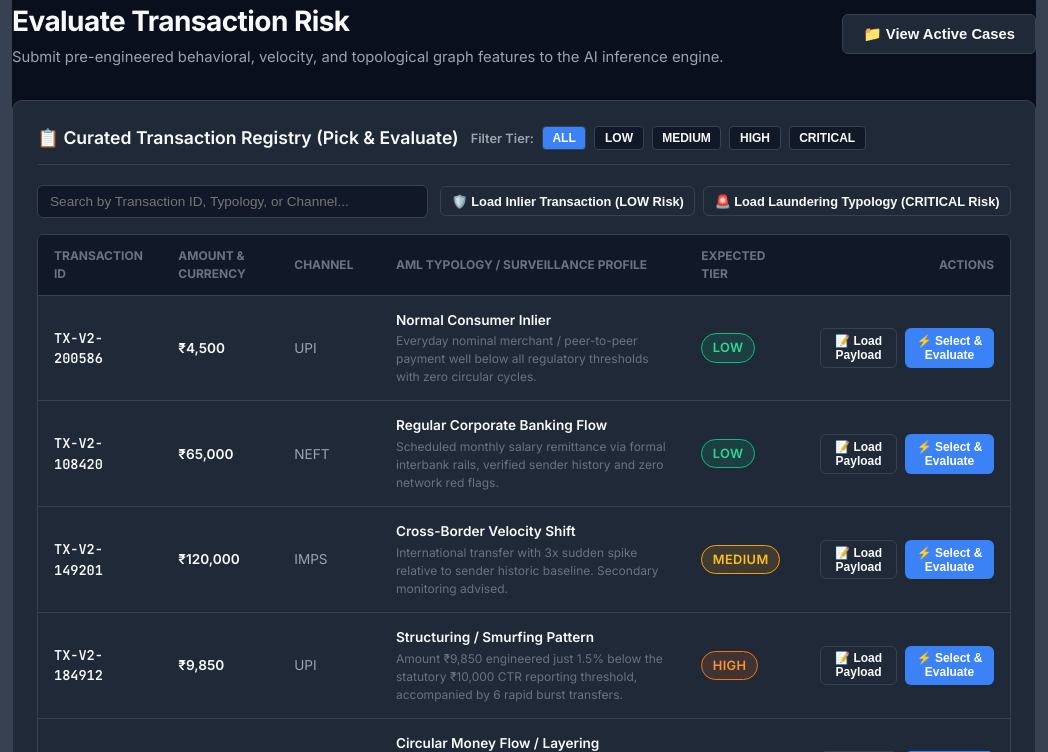
Test: AnalyzeTransaction Page Component › handles 504 Gateway Timeout gracefully
Click the button "🛡️ Load Inlier Transaction (LOW Risk)" at (568, 201), box [440,186,695,216]
(page scrolled)
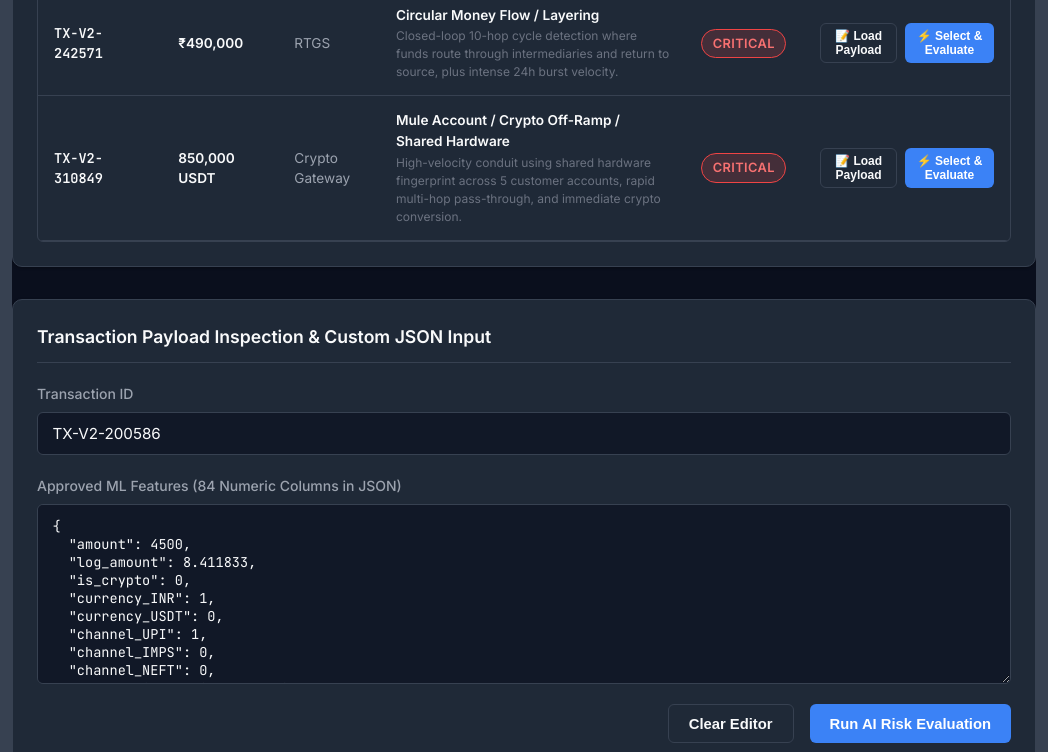
Click the button "Run AI Risk Evaluation" at (910, 724), box [810,704,1011,743]
(page scrolled)
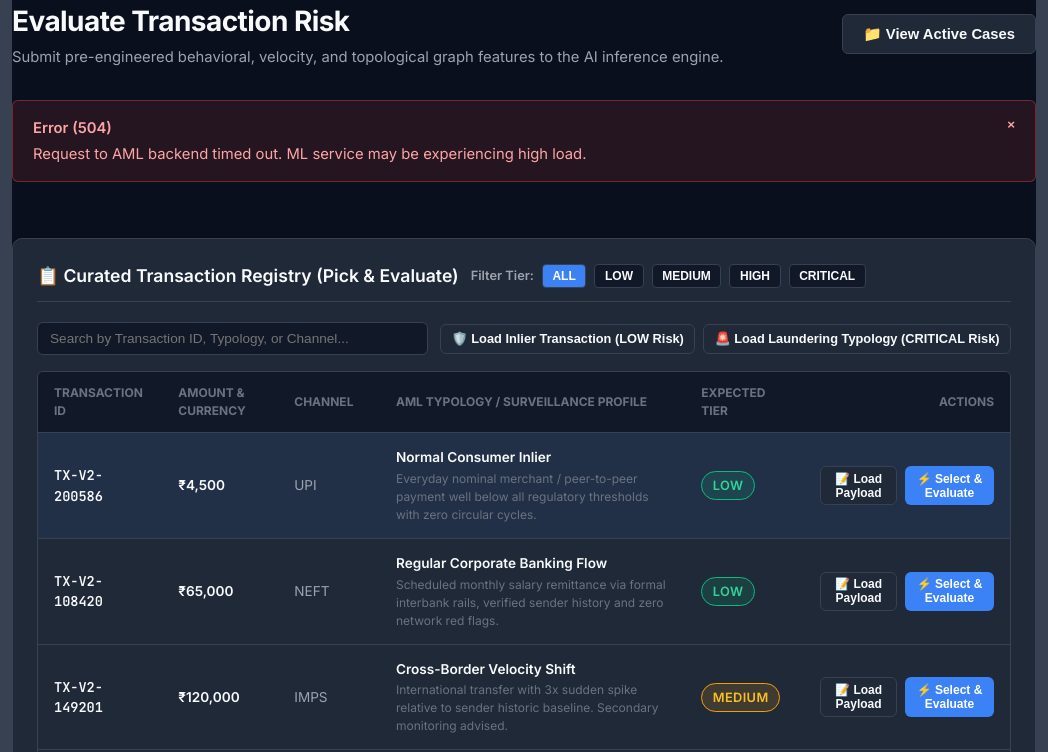
Check: the text "Request to AML backend timed out" is shown, box [33,145,586,163]
